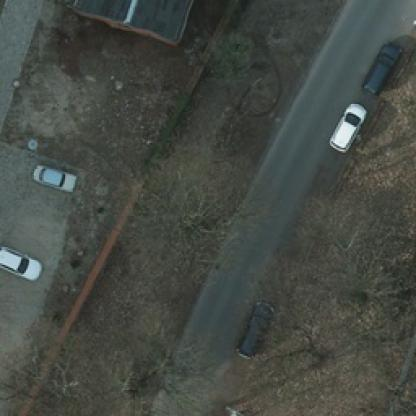car: (359, 34, 400, 91), (326, 100, 366, 150), (236, 302, 270, 358), (0, 240, 42, 280), (32, 161, 74, 192)
